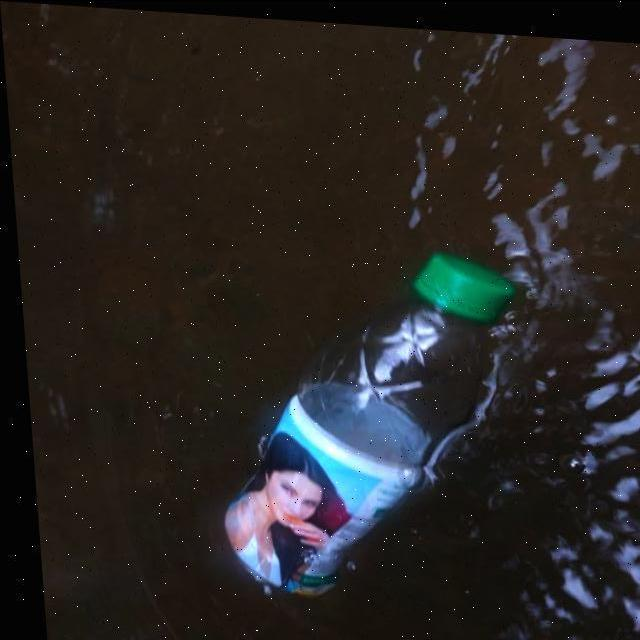Bottle: (212, 242, 520, 604)
